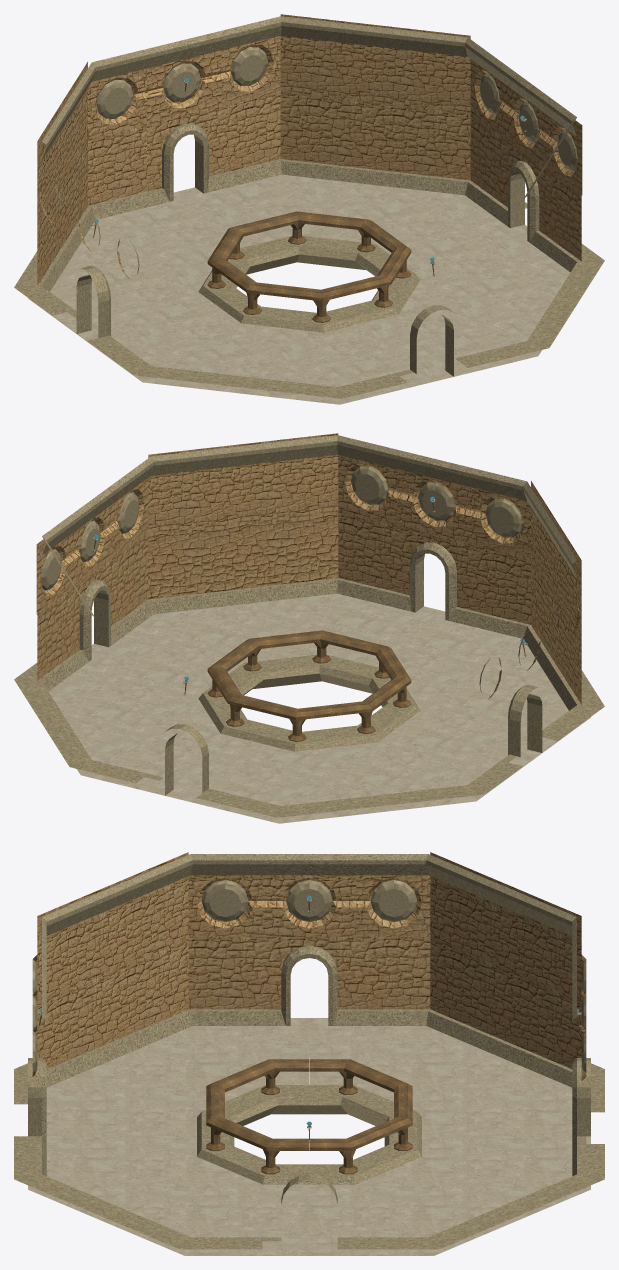
File: libraryMainRoom-transformed.glb
3 renders of one model, top to bottom at view 1: azimuth 30°, elevation 25°; view 2: azimuth 150°, elevation 25°; view 3: azimuth 270°, elevation 25°, orthographic. The views are drawn at different scales.
Parts seen in each view (by area): view 1: floorCol, lowerwallCol, object1.004, railing1; view 2: floorCol, lowerwallCol, object1.004, railing1; view 3: floorCol, lowerwallCol, object1.004, railing1.
Boxes of the visible parts, bbox=[...] form: floorCol: bbox=[28, 174, 570, 404]; lowerwallCol: bbox=[37, 14, 582, 285]; object1.004: bbox=[14, 16, 604, 398]; railing1: bbox=[207, 211, 411, 322]; floorCol: bbox=[48, 593, 590, 823]; lowerwallCol: bbox=[36, 433, 581, 704]; object1.004: bbox=[14, 435, 604, 817]; railing1: bbox=[207, 630, 411, 741]; floorCol: bbox=[28, 1018, 590, 1255]; lowerwallCol: bbox=[32, 852, 586, 1080]; object1.004: bbox=[14, 854, 604, 1249]; railing1: bbox=[206, 1059, 412, 1174].
Bounding box in the file's own units: 6.3 × 2.2 × 6.3.
7 materials, 6 textured.
